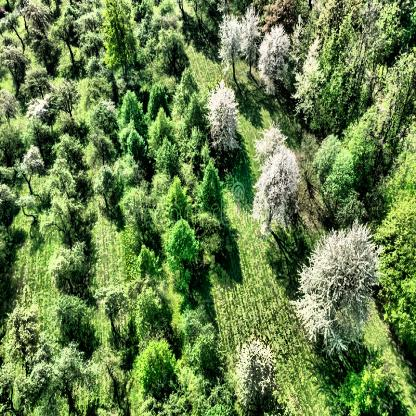tree-top: (291, 228, 374, 350), (375, 203, 416, 350), (250, 128, 296, 228), (231, 333, 278, 410), (333, 367, 395, 416), (48, 336, 93, 400), (101, 1, 140, 67), (183, 323, 225, 380), (135, 342, 177, 396), (373, 0, 416, 48), (56, 286, 94, 339), (210, 83, 242, 145), (258, 28, 290, 89), (125, 186, 162, 237), (5, 301, 37, 354), (22, 340, 54, 392), (330, 157, 364, 204), (137, 286, 170, 333), (351, 117, 380, 170), (46, 238, 80, 283), (54, 192, 84, 242), (300, 44, 324, 106), (170, 215, 196, 272), (154, 28, 190, 66), (218, 14, 242, 68), (199, 164, 226, 210), (318, 134, 345, 180), (198, 382, 234, 416), (52, 74, 83, 111), (238, 11, 263, 55), (20, 136, 44, 176), (135, 240, 158, 281), (117, 86, 143, 121), (102, 283, 130, 315), (54, 12, 78, 49), (22, 59, 48, 92), (0, 40, 25, 73), (57, 130, 81, 164), (154, 137, 177, 172), (91, 129, 115, 162), (184, 90, 206, 126), (0, 88, 23, 122), (26, 1, 50, 33), (154, 106, 176, 140), (49, 155, 69, 191), (265, 0, 291, 26), (0, 226, 17, 263), (96, 168, 117, 197), (31, 92, 50, 124), (149, 79, 170, 107), (0, 11, 21, 32)
